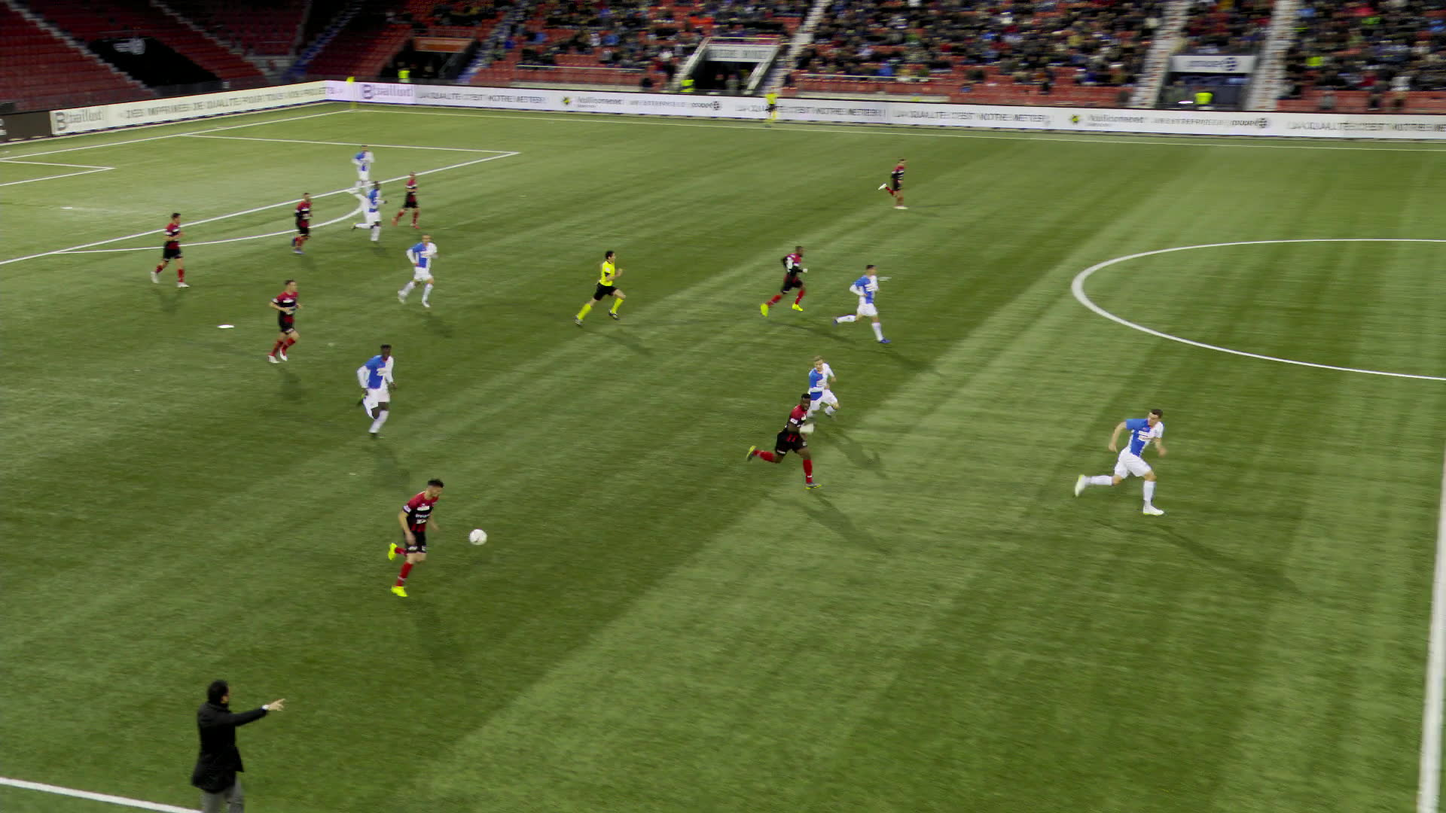ball: (475, 531, 494, 547)
player: (1082, 410, 1173, 517), (386, 474, 451, 592), (753, 392, 819, 492), (358, 341, 403, 434), (843, 263, 892, 347), (795, 352, 851, 425), (766, 245, 819, 315), (267, 278, 309, 364), (401, 233, 447, 308), (160, 212, 198, 289), (363, 179, 397, 242), (399, 170, 433, 229), (298, 190, 324, 254), (890, 158, 917, 209), (363, 144, 386, 193)
referee: (572, 251, 626, 327), (776, 88, 792, 122)
